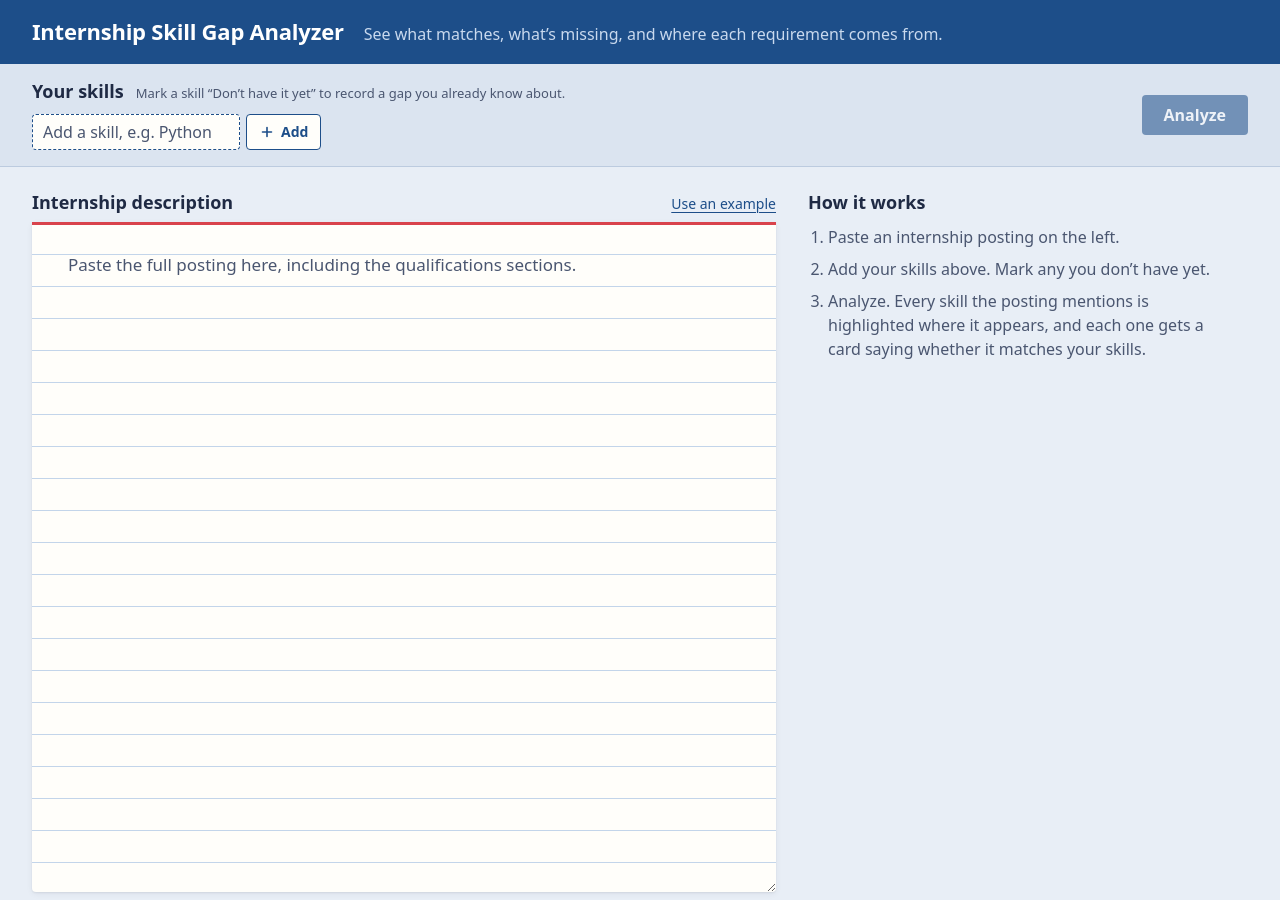
App › shows the server message when the analysis is rejected
Type "x" into the text box labelled "Internship description" at {"x": 404, "y": 556}, box [32,222,776,892]
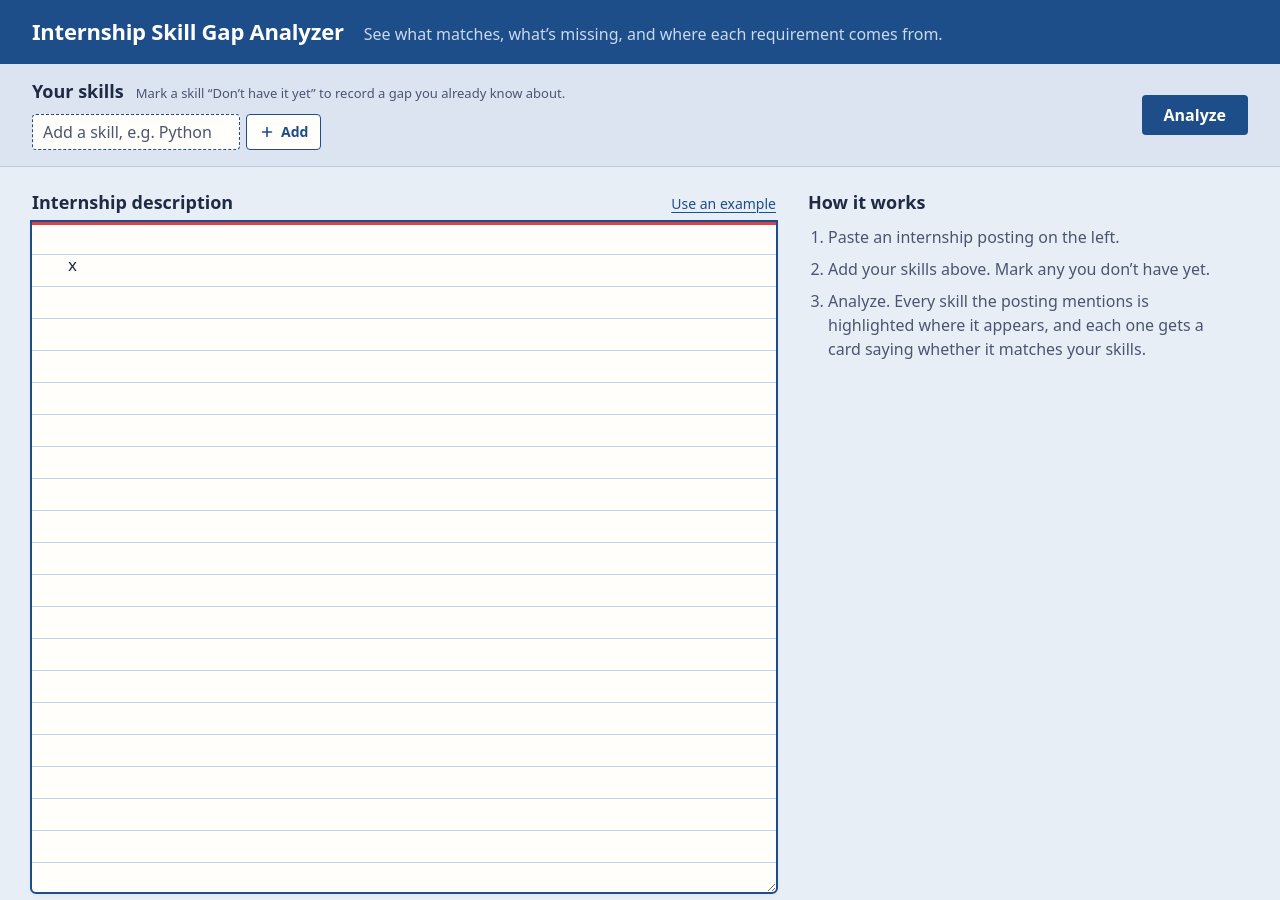
Click the button "Analyze" at {"x": 1195, "y": 115}, box [1142,95,1248,135]
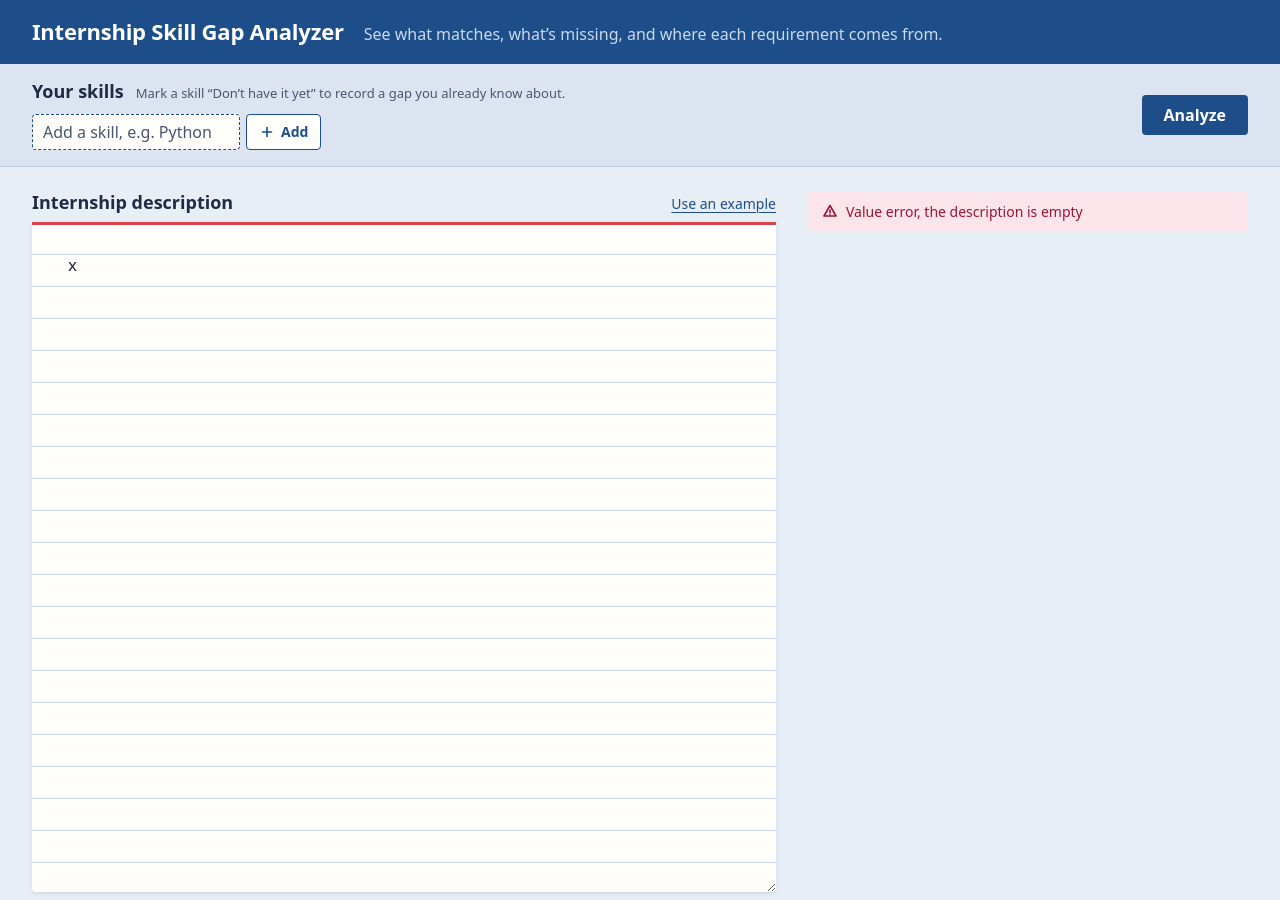
Check: the message shows "the description is empty", box [846,202,1083,220]
